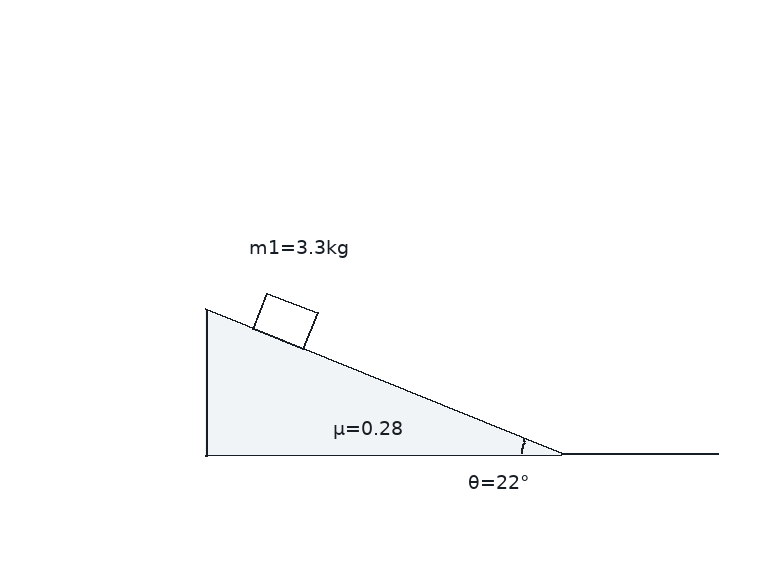block: (251, 291, 319, 351)
ramp: (204, 308, 564, 456)
